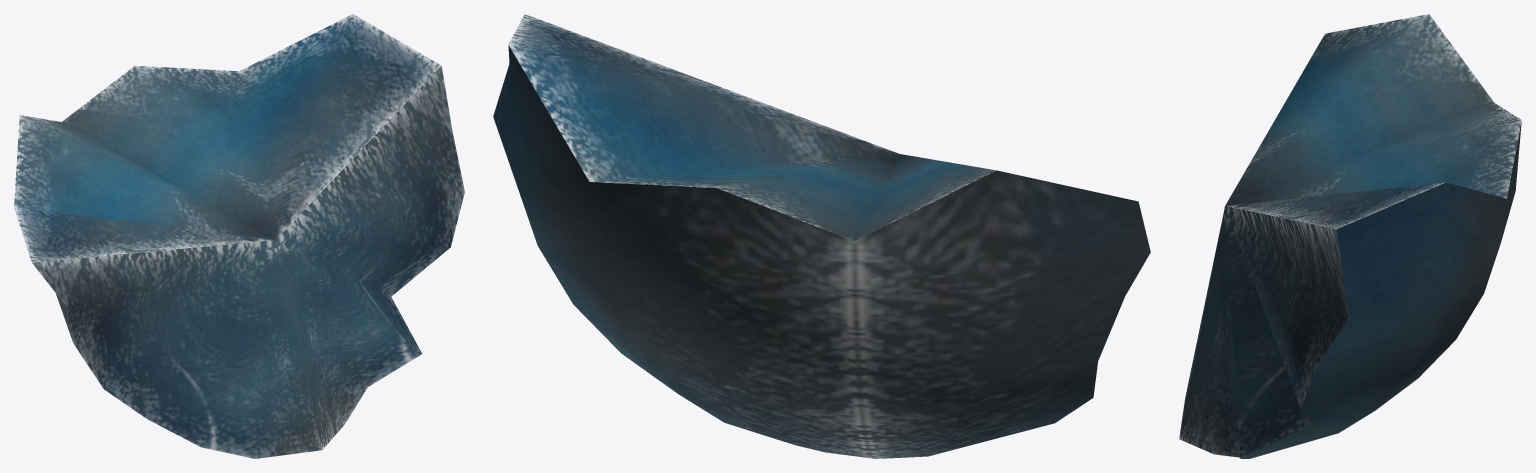
Rendered from orb_2_of_6.dae.
The picture shows the model from 3 angles, left to right: view 1: azimuth 30°, elevation 25°; view 2: azimuth 150°, elevation 25°; view 3: azimuth 270°, elevation 25°; orthographic projection. The views are drawn at different scales.
Visible parts, largest first — view 1: orb2; view 2: orb2; view 3: orb2.
Boxes of the visible parts, bbox=[...] form: orb2: bbox=[14, 14, 464, 458]; orb2: bbox=[493, 14, 1150, 458]; orb2: bbox=[1179, 14, 1521, 458].
Size of the model in its own units: 0.3605 by 0.2372 by 0.2178.
